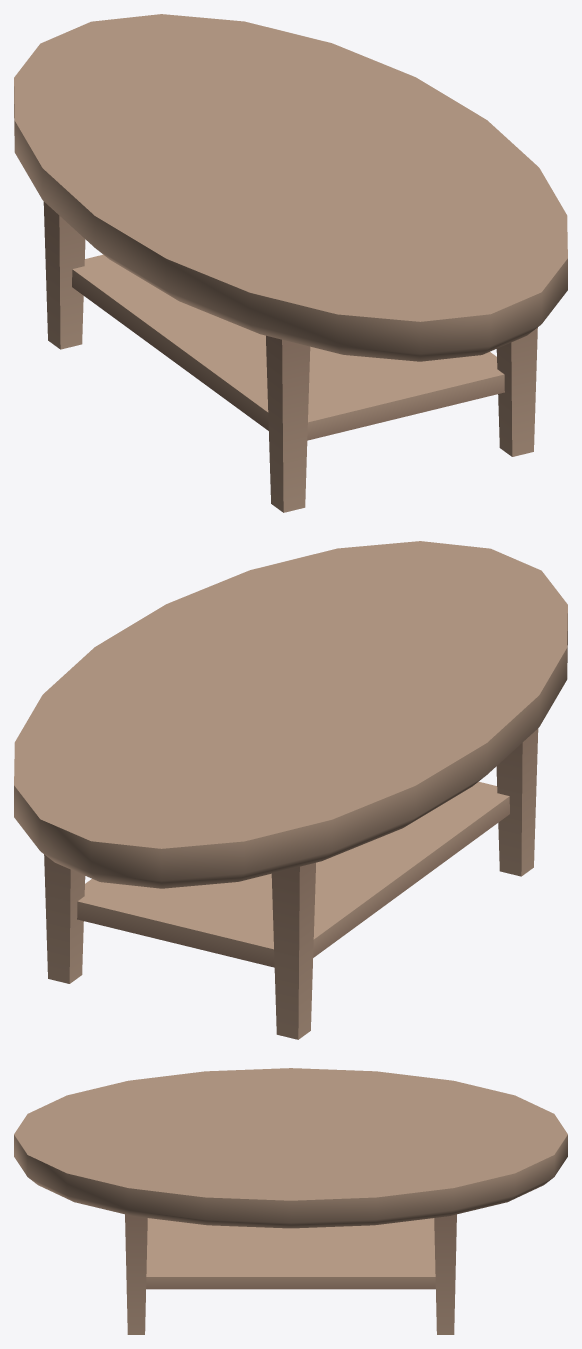
File: table-coffee-ellipse-shelf.glb
3 views of the same model, one above another, from view 1: azimuth 30°, elevation 25°; view 2: azimuth 150°, elevation 25°; view 3: azimuth 270°, elevation 25° (orthographic). The views are drawn at different scales.
Parts seen in each view (by area): view 1: table-coffee-ellipse-shelf; view 2: table-coffee-ellipse-shelf; view 3: table-coffee-ellipse-shelf.
Boxes of the visible parts, x1,y1,x2,y2 form: table-coffee-ellipse-shelf: [14, 14, 567, 512]; table-coffee-ellipse-shelf: [14, 541, 567, 1039]; table-coffee-ellipse-shelf: [14, 1068, 567, 1334].
Bounding box in the file's own units: 0.68 × 0.378 × 1.2.
